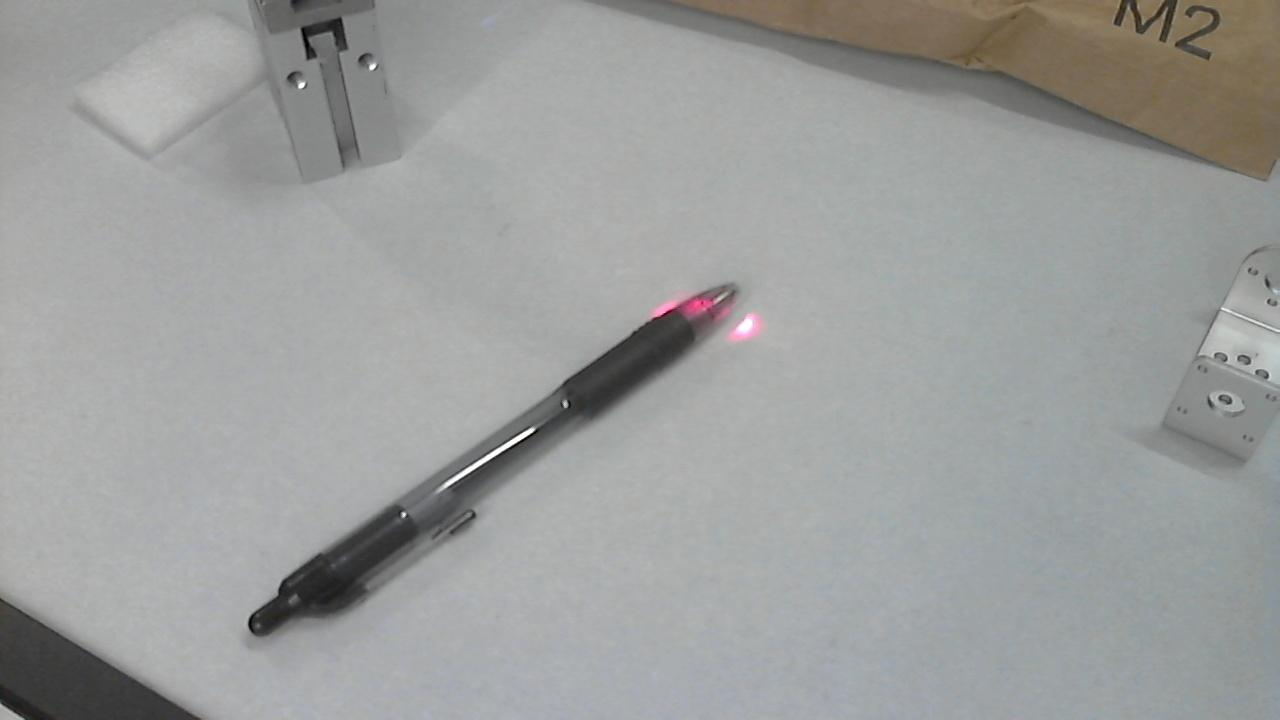Object retractable gel pen - Material plastic- Pdfname asdasdaswe: (625, 281, 727, 334)
